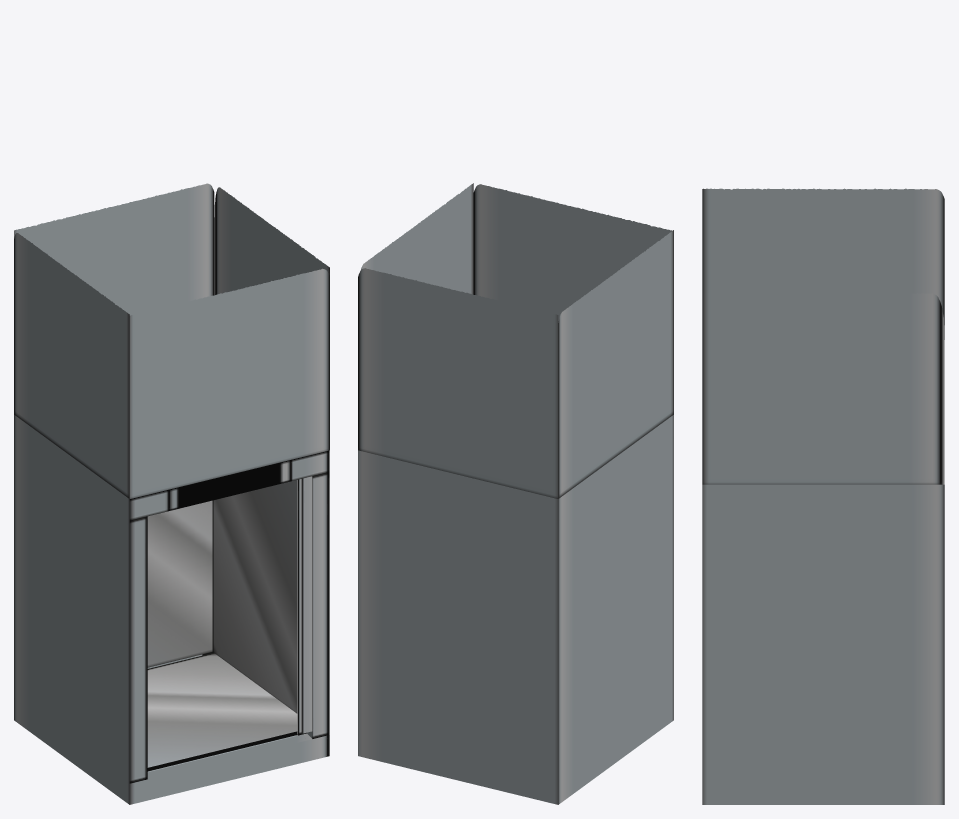
File: acenseur incendies.fbx
3 views of the same model, side by side, from view 1: azimuth 30°, elevation 25°; view 2: azimuth 150°, elevation 25°; view 3: azimuth 270°, elevation 25° (orthographic). The views are drawn at different scales.
Parts seen in each view (by area): view 1: Plane; view 2: Plane; view 3: Plane.
Boxes of the visible parts, left/top/right/bottom form: Plane: left=14, top=183, right=329, bottom=804; Plane: left=358, top=183, right=673, bottom=804; Plane: left=702, top=188, right=944, bottom=804.
Size of the model in its own units: 400 by 1255 by 400.
